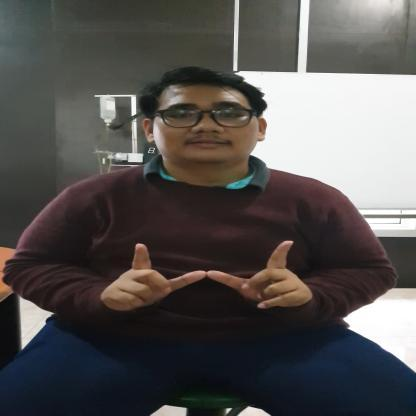W: (100, 239, 314, 312)
